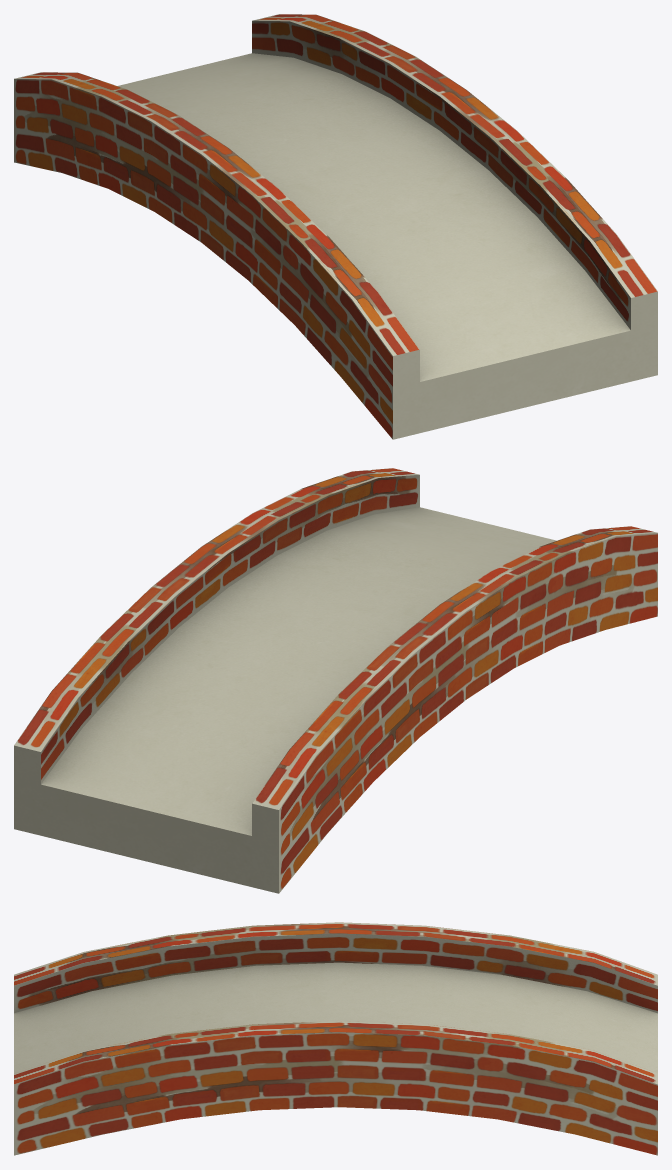
Rendered from Bridge.fbx.
3 renders of one model, top to bottom at view 1: azimuth 30°, elevation 25°; view 2: azimuth 150°, elevation 25°; view 3: azimuth 270°, elevation 25°, orthographic. The views are drawn at different scales.
Parts seen in each view (by area): view 1: hasi; view 2: hasi; view 3: hasi.
Part boxes in pixels (bbox=[...]): hasi: bbox=[14, 14, 657, 439]; hasi: bbox=[14, 468, 657, 893]; hasi: bbox=[14, 922, 657, 1155].
Size of the model in its own units: 129 by 67.34 by 318.
Materials: 1 (1 with a texture image).
